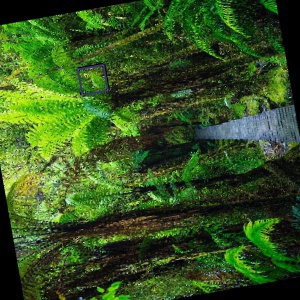square: (74, 63, 112, 96)
